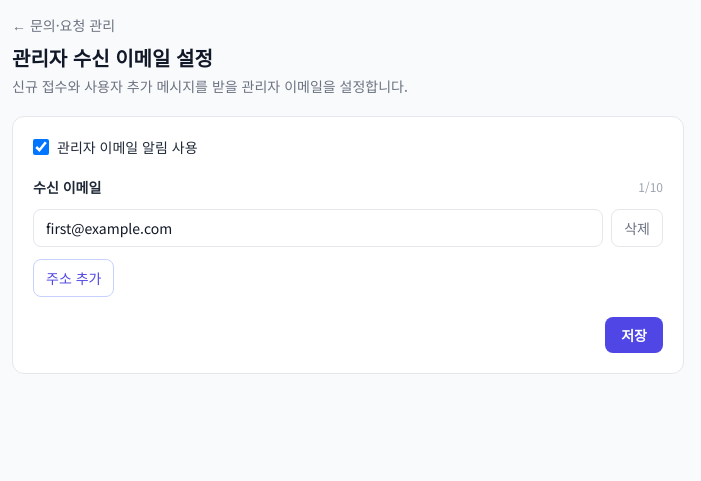
Test: InquirySettingsPage › 공백과 대소문자를 정규화했을 때 중복인 주소는 저장하지 않는다
Expected: the field showing "first@example.com" is shown, [33, 209, 603, 247]
Click the button "주소 추가" at [74, 278], box [33, 259, 114, 297]
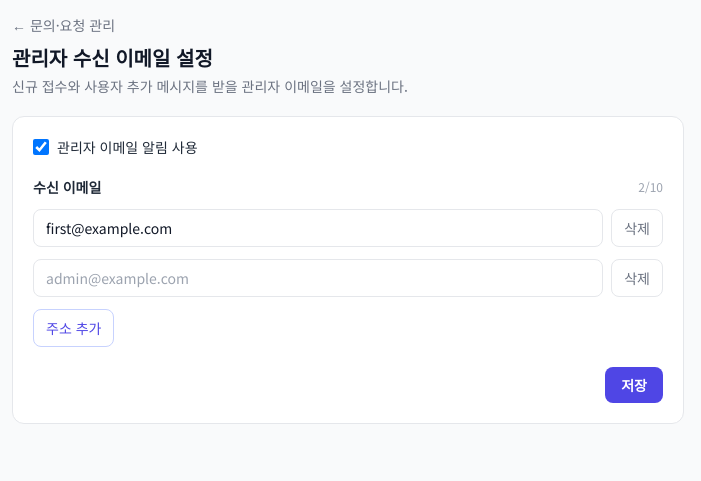
Replace the text in the field named "수신 이메일" with "Admin@Example.com" at [318, 228], box [33, 209, 603, 247]
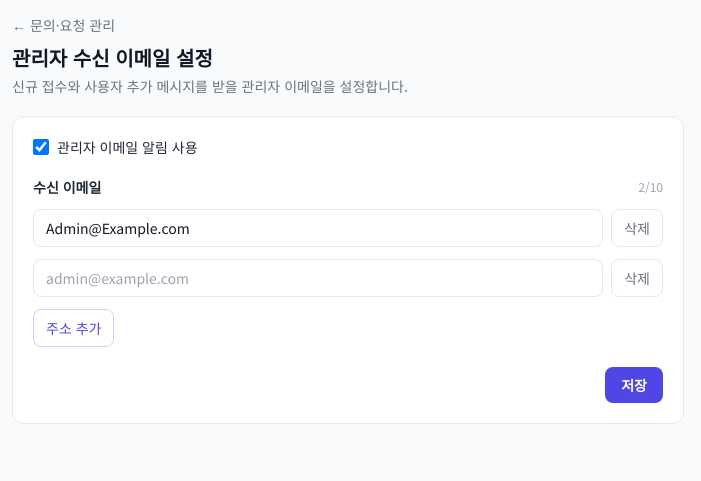
Type " admin@example.COM " into the field named "수신 이메일" at [318, 278], box [33, 259, 603, 297]
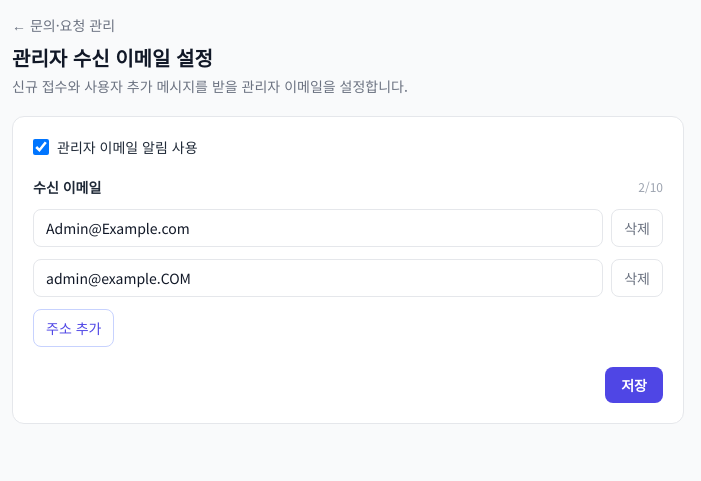
Click the button "저장" at [634, 385], box [605, 367, 663, 403]
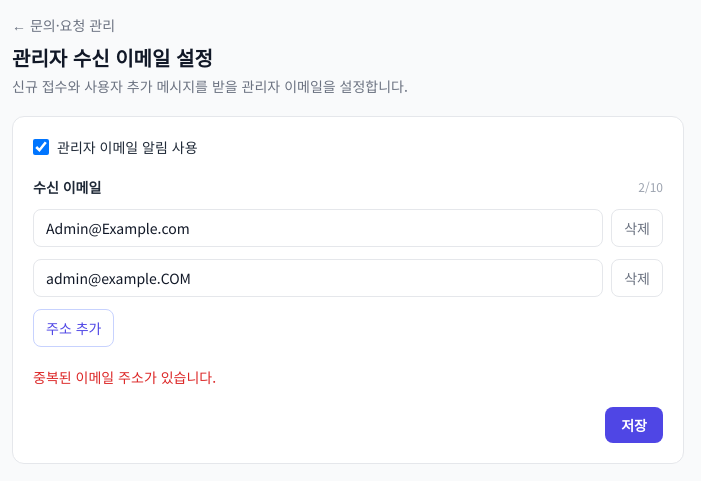
Now the text "중복된 이메일 주소가 있습니다." is shown, box [33, 367, 216, 387]
